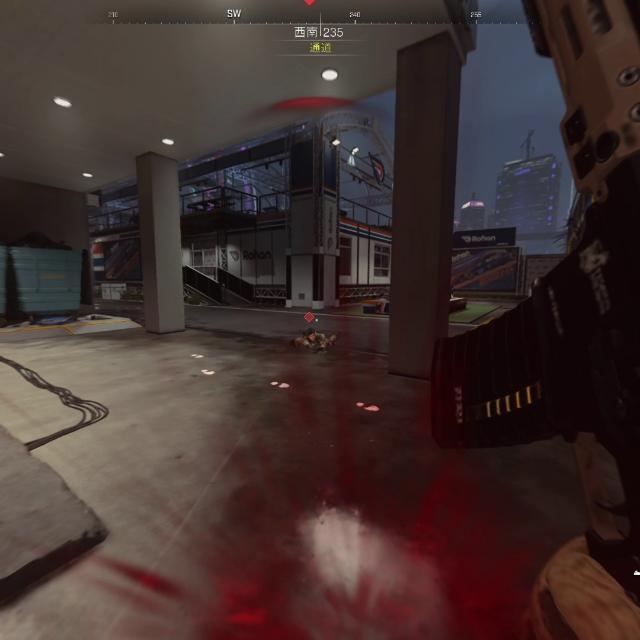MW2_body: (291, 310, 337, 352)
